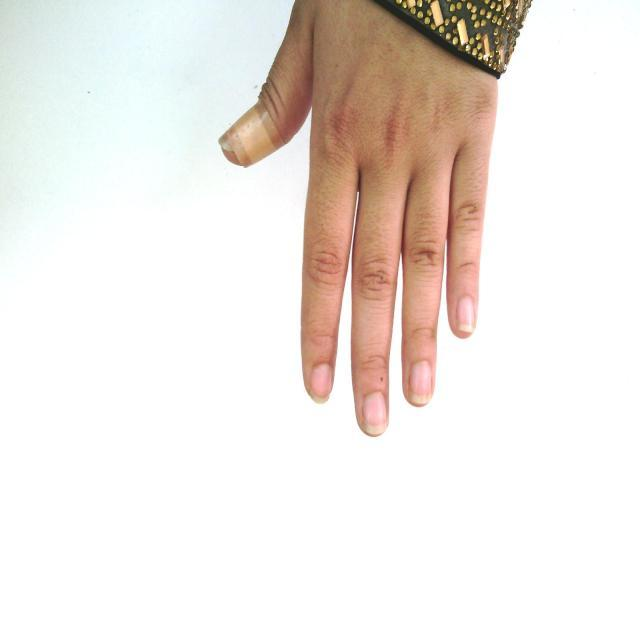Fingernail: (408, 361, 432, 404), (363, 392, 386, 435), (309, 363, 332, 404), (456, 295, 475, 331)
